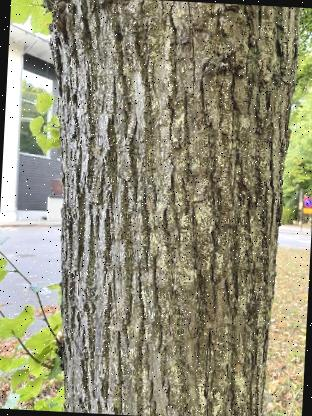tree: (13, 0, 308, 416)
